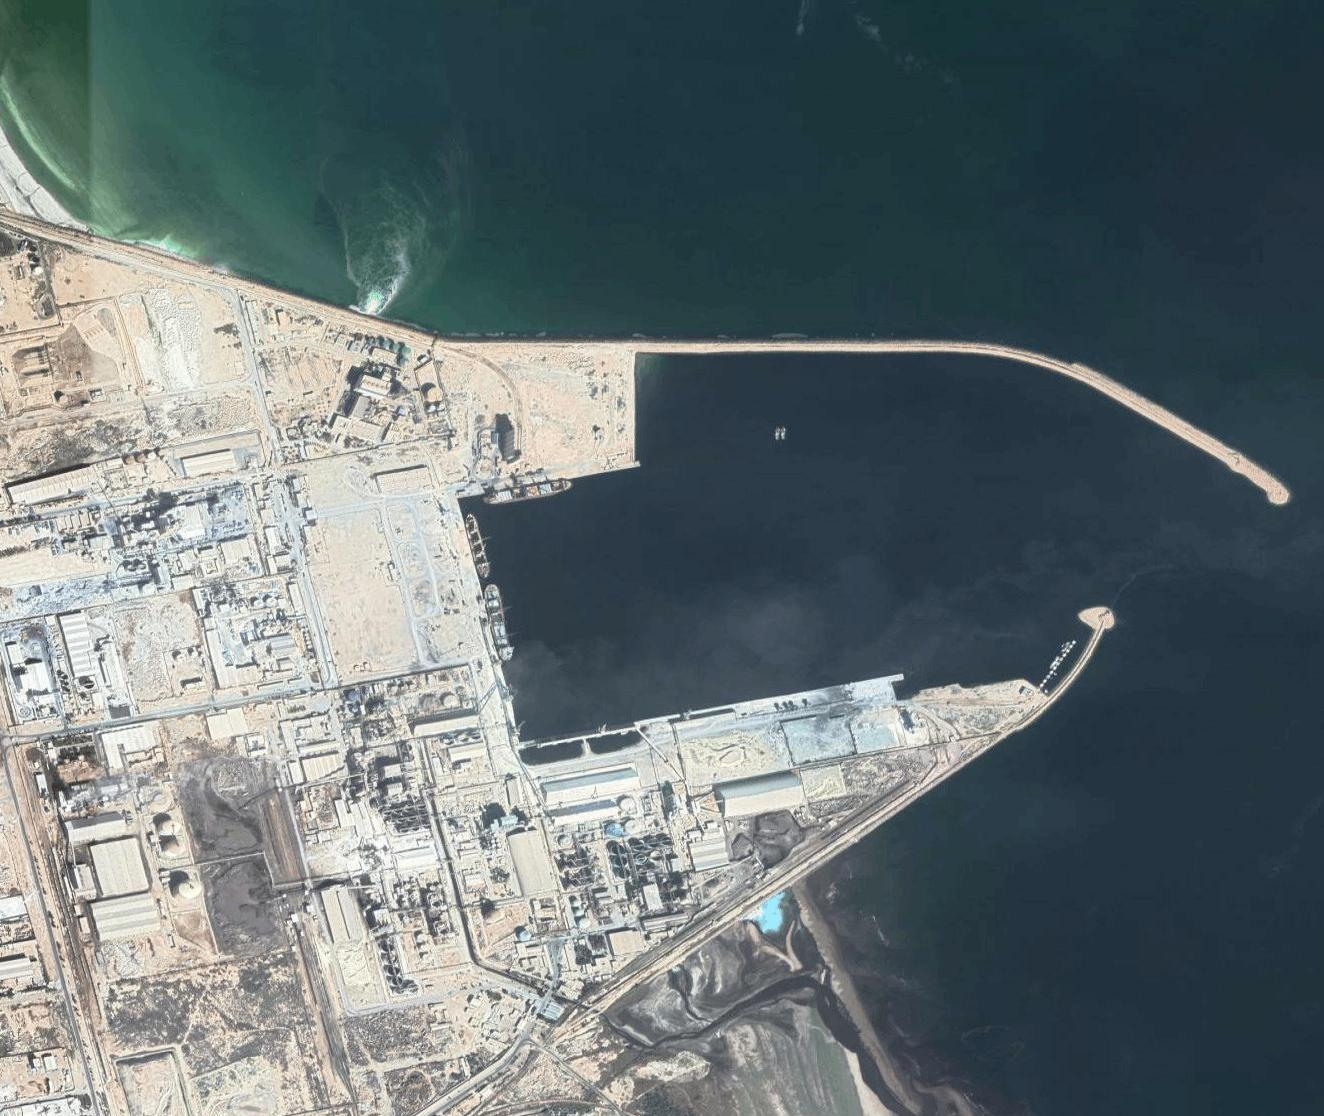harbor: (377, 195, 1296, 1048)
